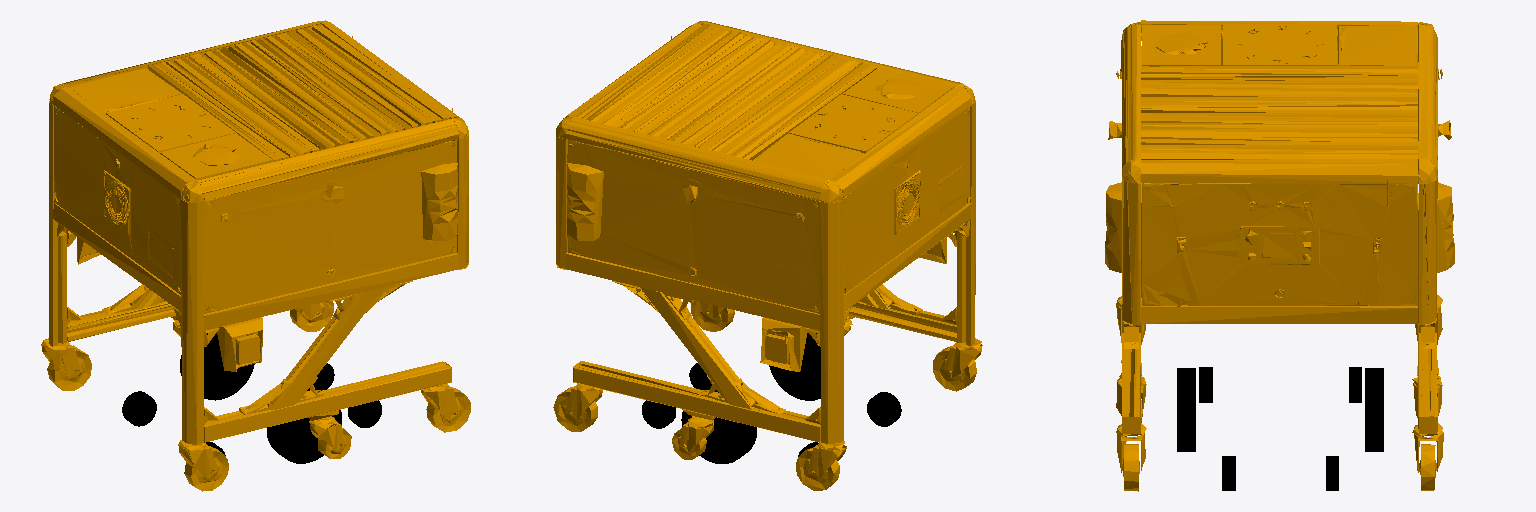
URDF robot description (AMR_Platform):
<?xml version="1.0" ?>
<robot name="AMR_Platform">
  <material name="blue">
    <color rgba="0 0 0.8 1"/>
  </material>
  <material name="black">
    <color rgba="0 0 0 1"/>
  </material>
  <material name="white">
    <color rgba="1 1 1 1"/>
  </material>
  <link name="base_link">
  </link>
  <link name="amr_main_body">
    <visual>
      <origin rpy="1.5707963267949 0 1.5707963267949" xyz="0 0 0"/>
      <geometry>
        <mesh filename="package://amr_visualisation/meshes/AMR_Platform.STL"/>
      </geometry>
      <material name="white"/>
    </visual>
    <collision>
      <origin rpy="1.5707963267949 0 1.5707963267949" xyz="0 0 0"/>
      <geometry>
        <mesh filename="package://amr_visualisation/meshes/AMR_Platform.STL"/>
      </geometry>
    </collision>
    <inertial>
      <mass value="4.07"/>
      <inertia ixx="0.426" ixy="0.0" ixz="0.0" iyy="0.496" iyz="0.0" izz="0.91"/>
    </inertial>
  </link>
  <joint name="amr_main_body_to_base" type="fixed">
    <parent link="base_link"/>
    <child link="amr_main_body"/>
    <origin xyz="0 0 0.085"/>
  </joint>
  <link name="left_wheel">
    <visual>
      <origin rpy="1.5707963267949 0 0" xyz="0 0 0"/>
      <geometry>
        <cylinder length="0.03937" radius="0.088"/>
      </geometry>
      <material name="black"/>
    </visual>
    <collision>
      <geometry>
        <cylinder length="0.03937" radius="0.088"/>
      </geometry>
    </collision>
    <inertial>
      <mass value="0.17"/>
      <inertia ixx="0.000204" ixy="0.0" ixz="0.0" iyy="0.000306" iyz="0.0" izz="0.000204"/>
    </inertial>
  </link>
  <joint name="left_wheel_joint" type="continuous">
    <axis rpy="0 0 0" xyz="0 1 0"/>
    <parent link="amr_main_body"/>
    <child link="left_wheel"/>
    <origin rpy="0 0 0" xyz="0 0.196425 0.000881"/>
  </joint>
  <link name="right_wheel">
    <visual>
      <origin rpy="1.5707963267949 0 0" xyz="0 0 0"/>
      <geometry>
        <cylinder length="0.03937" radius="0.088"/>
      </geometry>
      <material name="black"/>
    </visual>
    <collision>
      <geometry>
        <cylinder length="0.03937" radius="0.088"/>
      </geometry>
    </collision>
    <inertial>
      <mass value="0.17"/>
      <inertia ixx="0.000204" ixy="0.0" ixz="0.0" iyy="0.000306" iyz="0.0" izz="0.000204"/>
    </inertial>
  </link>
  <joint name="right_wheel_joint" type="continuous">
    <axis rpy="0 0 0" xyz="0 1 0"/>
    <parent link="amr_main_body"/>
    <child link="right_wheel"/>
    <origin rpy="3.1415926535897 0 0" xyz="0 -0.196425 0.000881"/>
  </joint>
  <link name="right_front_small_wheel">
    <visual>
      <origin rpy="1.5707963267949 0 0" xyz="0 0 0"/>
      <geometry>
        <cylinder length="0.02775" radius="0.0375"/>
      </geometry>
      <material name="black"/>
    </visual>
    <collision>
      <geometry>
        <cylinder length="0.02775" radius="0.0375"/>
      </geometry>
    </collision>
    <inertial>
      <mass value="0.17"/>
      <inertia ixx="0.000204" ixy="0.0" ixz="0.0" iyy="0.000306" iyz="0.0" izz="0.000204"/>
    </inertial>
  </link>
  <joint name="right_front_small_wheel_joint" type="continuous">
    <axis rpy="0 0 0" xyz="0 1 0"/>
    <parent link="amr_main_body"/>
    <child link="right_front_small_wheel"/>
    <origin rpy="3.1415926535897 0 0" xyz="0.209 -0.108 -0.049"/>
  </joint>
  <link name="left_front_small_wheel">
    <visual>
      <origin rpy="1.5707963267949 0 0" xyz="0 0 0"/>
      <geometry>
        <cylinder length="0.02775" radius="0.0375"/>
      </geometry>
      <material name="black"/>
    </visual>
    <collision>
      <geometry>
        <cylinder length="0.02775" radius="0.0375"/>
      </geometry>
    </collision>
    <inertial>
      <mass value="0.17"/>
      <inertia ixx="0.000204" ixy="0.0" ixz="0.0" iyy="0.000306" iyz="0.0" izz="0.000204"/>
    </inertial>
  </link>
  <joint name="left_front_small_wheel_joint" type="continuous">
    <axis rpy="0 0 0" xyz="0 1 0"/>
    <parent link="amr_main_body"/>
    <child link="left_front_small_wheel"/>
    <origin rpy="0 0 0" xyz="0.209 0.108 -0.049"/>
  </joint>
  <link name="left_back_small_wheel">
    <visual>
      <origin rpy="1.5707963267949 0 0" xyz="0 0 0"/>
      <geometry>
        <cylinder length="0.02775" radius="0.0375"/>
      </geometry>
      <material name="black"/>
    </visual>
    <collision>
      <geometry>
        <cylinder length="0.02775" radius="0.0375"/>
      </geometry>
    </collision>
    <inertial>
      <mass value="0.17"/>
      <inertia ixx="0.000204" ixy="0.0" ixz="0.0" iyy="0.000306" iyz="0.0" izz="0.000204"/>
    </inertial>
  </link>
  <joint name="left_back_small_wheel_joint" type="continuous">
    <axis rpy="0 0 0" xyz="0 1 0"/>
    <parent link="amr_main_body"/>
    <child link="left_back_small_wheel"/>
    <origin rpy="0 0 0" xyz="-0.228 0.156 -0.049"/>
  </joint>
  <link name="right_back_small_wheel">
    <visual>
      <origin rpy="1.5707963267949 0 0" xyz="0 0 0"/>
      <geometry>
        <cylinder length="0.02775" radius="0.0375"/>
      </geometry>
      <material name="black"/>
    </visual>
    <collision>
      <geometry>
        <cylinder length="0.02775" radius="0.0375"/>
      </geometry>
    </collision>
    <inertial>
      <mass value="0.17"/>
      <inertia ixx="0.000204" ixy="0.0" ixz="0.0" iyy="0.000306" iyz="0.0" izz="0.000204"/>
    </inertial>
  </link>
  <joint name="right_back_small_wheel_joint" type="continuous">
    <axis rpy="0 0 0" xyz="0 1 0"/>
    <parent link="amr_main_body"/>
    <child link="right_back_small_wheel"/>
    <origin rpy="3.1415926535897 0 0" xyz="-0.228 -0.156 -0.049"/>
  </joint>

  <joint name="chassis_connector" type="fixed">
    <axis rpy="0 0 1.57" xyz="0 0 0.5"/>
    <parent link="amr_main_body"/>
    <child link="chassis"/>
  </joint>

  <link name="chassis">
    <visual>
      <geometry>
        <mesh filename="package://omron_moma/chassis.obj"/>
      </geometry>
    </visual>
    <collision>
      <geometry>
        <mesh filename="package://omron_moma/chassis.stl"/>
      </geometry>
    </collision>
  </link>

  <joint name="tm_connector" type="fixed">
    <parent link="chassis"/>
    <child link="tm_base"/>
    <origin xyz="-0.25 0 0.73" rpy="0 0 1.5708"/>
  </joint>

  <link name="tm_base">
  </link>

  <joint name="tm_base_link" type="fixed">
    <parent link="tm_base"/>
    <child link="tm_link_0"/>
    <origin xyz="0 0 0" rpy="1.5708 0 0"/>
    
  </joint>

  <link name="tm_link_0">
    <visual>
      <geometry>
        <mesh filename="package://tm_models/meshes/tm12_1300/visual/tm12_base.stl"/>
      </geometry>
      <material name="LightGrey">
        <color rgba="0.5 0.5 0.5 1.0"/>
      </material>
    </visual>
    <collision>
      <geometry>
        <mesh filename="package://tm_models/meshes/tm12_1300/collision/tm12_base_c.STL"/>
      </geometry>
    </collision>
    <inertial>
      <mass value="1.0"/>
      <origin rpy="0 0 0" xyz="0 1.57 0"/>
      <inertia ixx="0.00110833289" ixy="0.0" ixz="0.0" iyy="0.0018" iyz="0.0" izz="0.00110833289"/>
    </inertial>
  </link>

  <joint name="joint_1" type="revolute">
    <parent link="tm_link_0"/>
    <child link="tm_link_1"/>
    <origin rpy="0 0 0" xyz="0 0.1652 0"/>
    <axis xyz="0 1 0"/>
    <limit effort="150.0" lower="-4.71238898038469" upper="4.71238898038469" velocity="3.15"/>
    <dynamics damping="0.0" friction="0.0"/>
  </joint>
  
  <link name="tm_link_1">
    <visual>
      <geometry>
        <mesh filename="package://tm_models/meshes/tm12_1300/visual/tm_750w_01.stl"/>
      </geometry>
      <material name="DarkOlive">
        <color rgba="0.3 0.3 0.25 1.0"/>
      </material>
    </visual>
    <collision>
      <geometry>
        <mesh filename="package://tm_models/meshes/tm12_1300/collision/tm_750w_01_c.STL"/>
      </geometry>
    </collision>
    <inertial>
      <mass value="4.5"/>
      <origin rpy="0 0 0" xyz="0 0 0"/>
      <inertia ixx="0.012487495005" ixy="0.0" ixz="0.0" iyy="0.0081" iyz="0.0" izz="0.012487495005"/>
    </inertial>
  </link>

  <joint name="joint_2" type="revolute">
    <parent link="tm_link_1"/>
    <child link="tm_link_2"/>
    <origin rpy="0 0 0" xyz="0 0 0.1801"/>
    <axis xyz="0 0 -1"/>
    <limit effort="150.0" lower="-3.141592653589793" upper="3.141592653589793" velocity="3.15"/>
    <dynamics damping="0.0" friction="0.0"/>
  </joint>

  <link name="tm_link_2">
    <visual>
      <geometry>
        <mesh filename="package://tm_models/meshes/tm12_1300/visual/tm12_arm1.stl"/>
      </geometry>
      <material name="DarkOlive">
        <color rgba="0.3 0.3 0.25 1.0"/>
      </material>
    </visual>
    <collision>
      <geometry>
        <mesh filename="package://tm_models/meshes/tm12_1300/collision/tm12_arm1_c.STL"/>
      </geometry>
    </collision>
    <inertial>
      <mass value="11.0"/>
      <origin rpy="0 0 0" xyz="0 0.31805 0"/>
      <inertia ixx="0.38080445684482295" ixy="0.0" ixz="0.0" iyy="0.019799999999999998" iyz="0.0" izz="0.38080445684482295"/>
    </inertial>
  </link>

  <joint name="joint_3" type="revolute">
    <parent link="tm_link_2"/>
    <child link="tm_link_3"/>
    <origin rpy="0 0 0" xyz="0 0.6361 -0.12980000000000003"/>
    <axis xyz="0 0 -1"/>
    <limit effort="150.0" lower="-3.141592653589793" upper="3.141592653589793" velocity="3.15"/>
    <dynamics damping="0.0" friction="0.0"/>
  </joint>

  <link name="tm_link_3">
    <visual>
      <geometry>
        <mesh filename="package://tm_models/meshes/tm12_1300/visual/tm12_arm2.stl"/>
      </geometry>
      <material name="DarkOlive">
        <color rgba="0.3 0.3 0.25 1.0"/>
      </material>
    </visual>
    <collision>
      <geometry>
        <mesh filename="package://tm_models/meshes/tm12_1300/collision/tm12_arm2_c.STL"/>
      </geometry>
    </collision>
    <inertial>
      <mass value="2.5"/>
      <origin rpy="0 0 0" xyz="0 0.27895 0"/>
      <inertia ixx="0.06610985063938249" ixy="0.0" ixz="0.0" iyy="0.0025312499999999996" iyz="0.0" izz="0.06610985063938249"/>
    </inertial>
  </link>

  <joint name="joint_4" type="revolute">
    <parent link="tm_link_3"/>
    <child link="tm_link_4"/>
    <origin rpy="0 0 0" xyz="0 0.5579 0.106"/>
    <axis xyz="0 0 -1"/>
    <limit effort="150.0" lower="-3.141592653589793" upper="3.141592653589793" velocity="3.15"/>
    <dynamics damping="0.0" friction="0.0"/>
  </joint>

  <link name="tm_link_4">
    <visual>
      <geometry>
        <mesh filename="package://tm_models/meshes/tm12_1300/visual/tm_100w_01.stl"/>
      </geometry>
      <material name="DarkOlive">
        <color rgba="0.3 0.3 0.25 1.0"/>
      </material>
    </visual>
    <collision>
      <geometry>
        <mesh filename="package://tm_models/meshes/tm12_1300/collision/tm_100w_01_c.STL"/>
      </geometry>
    </collision>
    <inertial>
      <mass value="1.45"/>
      <origin rpy="0 0 0" xyz="0 0 0"/>
      <inertia ixx="0.002474061510375" ixy="0.0" ixz="0.0" iyy="0.001468125" iyz="0.0" izz="0.002474061510375"/>
    </inertial>
  </link>

  <joint name="joint_5" type="revolute">
    <parent link="tm_link_4"/>
    <child link="tm_link_5"/>
    <origin rpy="0 0 0" xyz="0 0.106 0"/>
    <axis xyz="0 1 0"/>
    <limit effort="150.0" lower="-3.141592653589793" upper="3.141592653589793" velocity="3.15"/>
    <dynamics damping="0.0" friction="0.0"/>
  </joint>

  <link name="tm_link_5">
    <visual>
      <geometry>
        <mesh filename="package://tm_models/meshes/tm12_1300/visual/tm_100w_02.stl"/>
      </geometry>
      <material name="DarkOlive">
        <color rgba="0.3 0.3 0.25 1.0"/>
      </material>
    </visual>
    <collision>
      <geometry>
        <mesh filename="package://tm_models/meshes/tm12_1300/collision/tm_100w_02_c.stl"/>
      </geometry>
    </collision>
    <inertial>
      <mass value="1.45"/>
      <origin rpy="0 0 0" xyz="0 0 0"/>
      <inertia ixx="0.002474061510375" ixy="0.0" ixz="0.0" iyy="0.002474061510375" iyz="0.0" izz="0.001468125"/>
    </inertial>
  </link>

  <joint name="joint_6" type="revolute">
    <parent link="tm_link_5"/>
    <child link="tm_link_6"/>
    <origin rpy="0 0 0" xyz="0 0 0.11315"/>
    <axis xyz="0 0 1"/>
    <limit effort="150.0" lower="-4.71238898038469" upper="4.71238898038469" velocity="3.15"/>
    <dynamics damping="0.0" friction="0.0"/>
  </joint>

  <link name="tm_link_6">
    <visual>
      <geometry>
        <mesh filename="package://tm_models/meshes/tm12_1300/visual/tm_ee.stl"/>
      </geometry>
      <material name="LightGrey">
        <color rgba="0.5 0.5 0.5 1.0"/>
      </material>
    </visual>
    <collision>
      <geometry>
        <mesh filename="package://tm_models/meshes/tm12_1300/collision/tm_ee_c.stl"/>
      </geometry>
    </collision>
    <inertial>
      <mass value="0.4"/>
      <origin rpy="0 0 0" xyz="0 0 0"/>
      <inertia ixx="0.000322499871" ixy="0.0" ixz="0.0" iyy="0.000322499871" iyz="0.0" izz="0.000405"/>
    </inertial>
  </link>
  
  <joint name="flange_fixed_joint" type="fixed">
    <parent link="tm_link_6"/>
    <child link="flange"/>
    <origin rpy="0 0 0" xyz="0 0 0"/>
  </joint>

  <link name="flange">
  </link>

  <joint name="joint_EOAT" type="fixed">
    <parent link="flange"/>
    <child link="EOAT"/>
    <origin xyz="0 0 0" rpy="0 0 0"/>
    <axis xyz="0 0 0"/>
  </joint>

  <link name="EOAT">
    <visual>
      <geometry>
        <mesh filename="package://tmr_description/meshes/gripper/robotiq/2f-85/robotiq_85_gripper.obj"/>
      </geometry>
    </visual>
    <collision>
      <geometry>
        <mesh filename="package://tmr_description/meshes/gripper/robotiq/2f-85/robotiq_85_gripper.stl"/>
      </geometry>
    </collision>
  </link>
</robot>

--- What the picture shows (computed from the rendered views, not written in the file) ---
The picture shows the robot from 3 angles, left to right: view 1: azimuth 30°, elevation 25°; view 2: azimuth 150°, elevation 25°; view 3: azimuth 270°, elevation 25°; orthographic projection.
Robot: AMR_Platform — 19 links, 18 joints (6 revolute, 6 continuous, 6 fixed); root link base_link; default pose: all joints at 0.
Links seen in each view (by area): view 1: chassis, right_wheel, left_wheel, left_back_small_wheel, right_front_small_wheel; view 2: chassis, left_wheel, right_wheel, right_back_small_wheel, left_front_small_wheel; view 3: chassis, left_wheel, right_wheel.
Boxes of the visible links, box(x1,y1,x2,y2) form: chassis: box(41, 20, 470, 491); right_wheel: box(267, 386, 341, 463); left_wheel: box(180, 333, 254, 400); left_back_small_wheel: box(122, 391, 156, 426); right_front_small_wheel: box(348, 400, 381, 427); chassis: box(553, 21, 982, 490); left_wheel: box(681, 386, 756, 463); right_wheel: box(769, 333, 820, 400); right_back_small_wheel: box(867, 392, 901, 426); left_front_small_wheel: box(642, 400, 675, 428); chassis: box(1105, 20, 1454, 491); left_wheel: box(1365, 368, 1383, 451); right_wheel: box(1177, 368, 1195, 451).
Bounding box of the posed robot: 0.7749 × 0.7316 × 0.8269 m (x, y, z).
Meshes: 10 distinct files referenced, 1 mesh visuals loaded (1 OBJ); not drawn: 8 (reference not matched to a file when rendering), 1 (file found but could not be loaded).